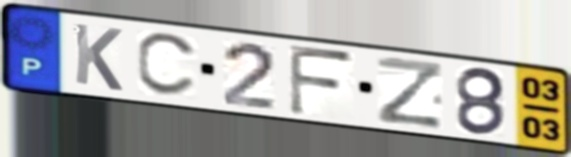2: (219, 40, 280, 113)
8: (452, 65, 508, 138)
C: (134, 31, 202, 99)
F: (286, 41, 357, 119)
K: (71, 20, 126, 94)
Z: (375, 53, 446, 131)
